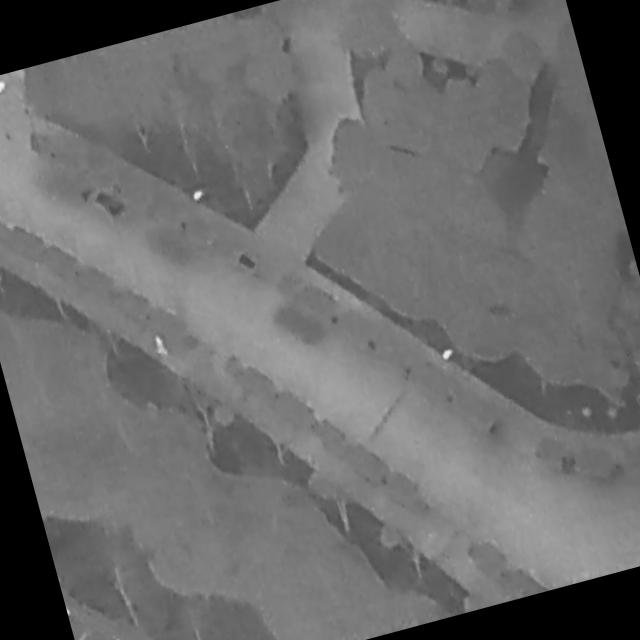person: (152, 330, 171, 358)
